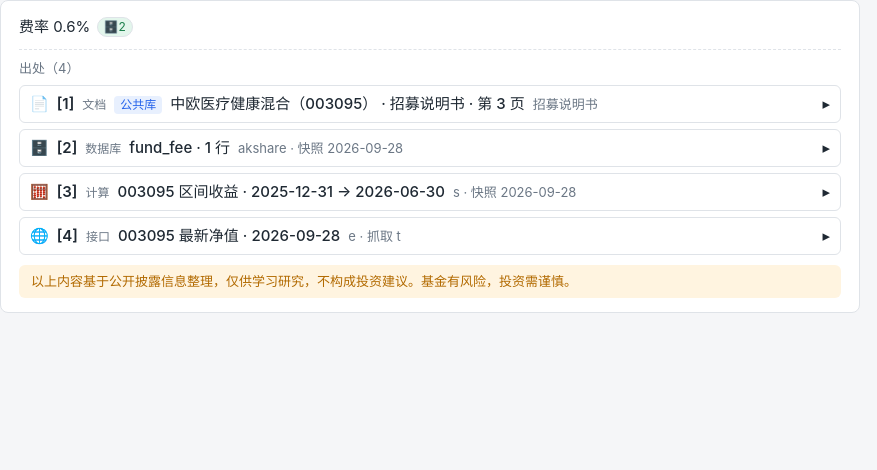
Test: AssistantMessage 风险提示 › 点击正文角标展开并聚焦对应出处
Click the button with class "cite".
click(115, 27)  # box [96,17,133,37]
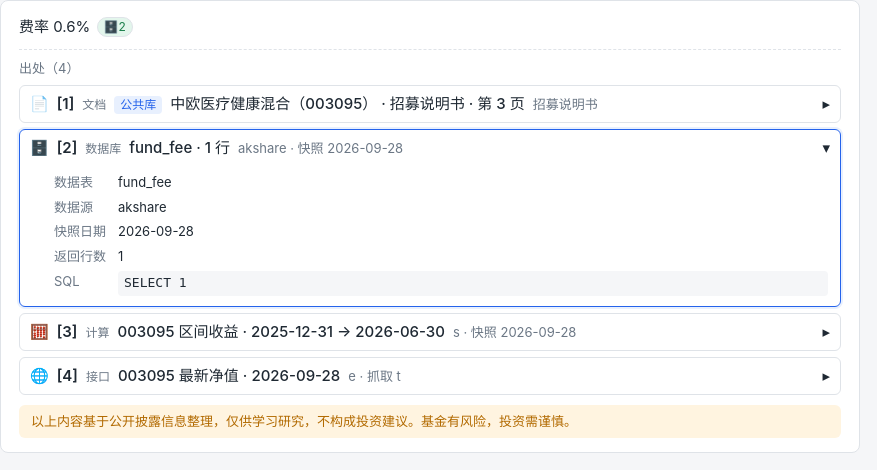
Now the element with class "cite-detail" shows "SELECT 1", box [124,275,187,290]
